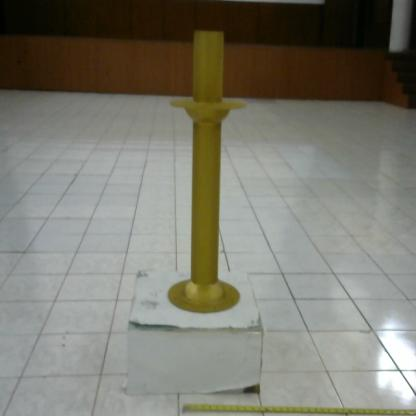pole: (162, 26, 250, 319)
